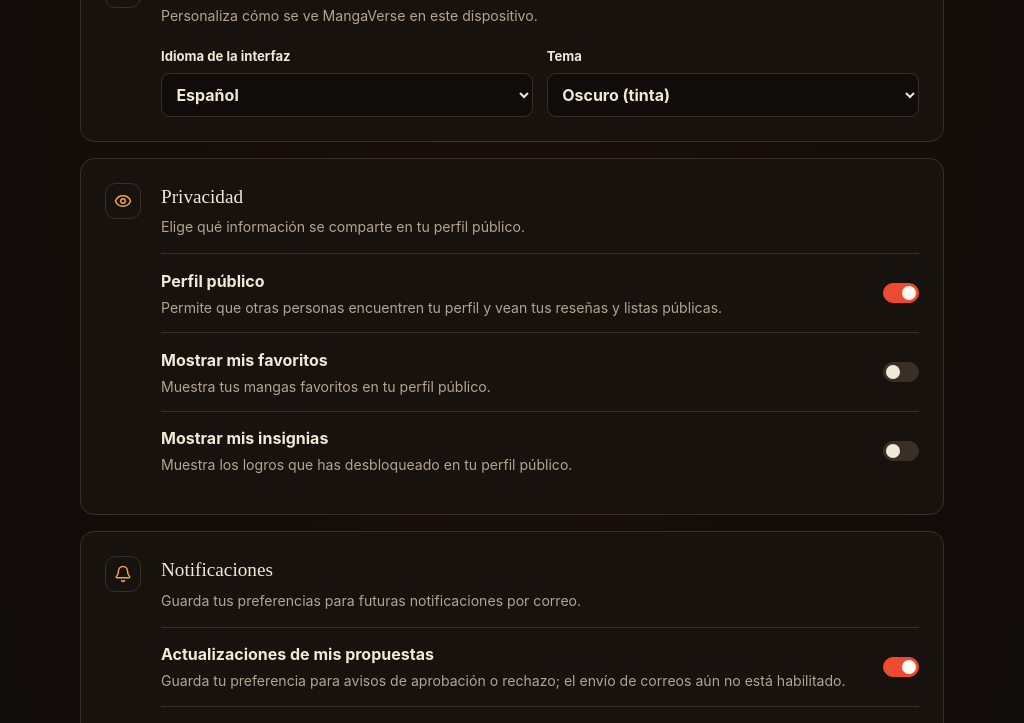
Test: AccountSettingsPage › saves privacy preferences and the selected theme together
(page scrolled)
Click the checkbox labelled "Mostrar mis favoritos" at {"x": 901, "y": 372}, box top-left (883, 362), bottom-right (919, 382)
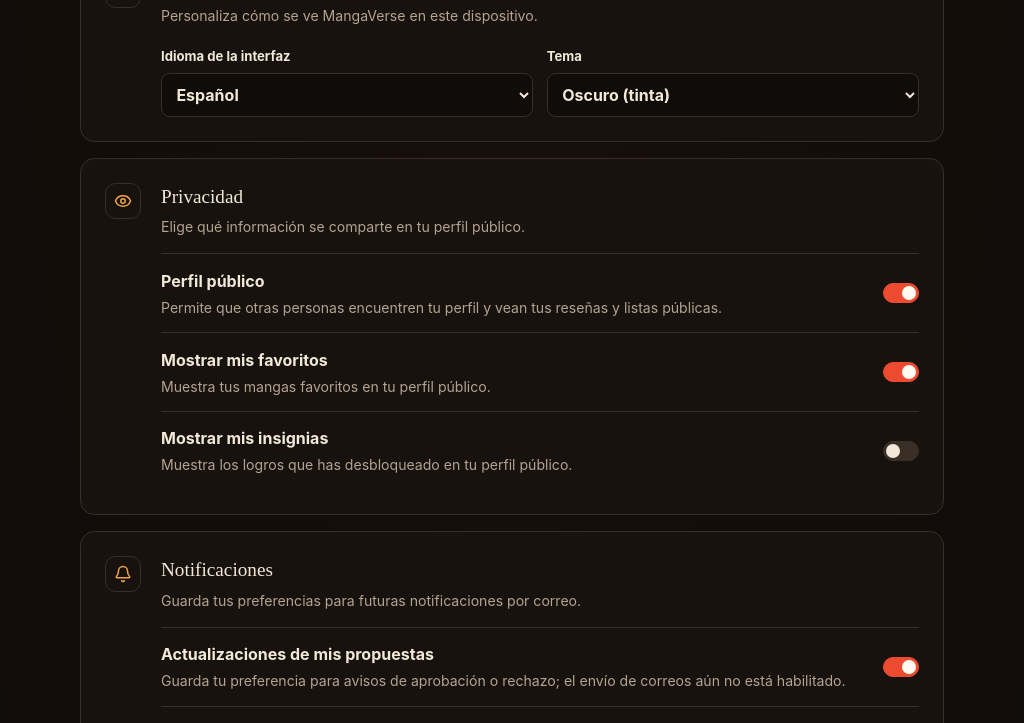
Select "Claro" in the dropdown named "Tema de la interfaz" at {"x": 733, "y": 95}, box top-left (547, 73), bottom-right (919, 117)
(page scrolled)
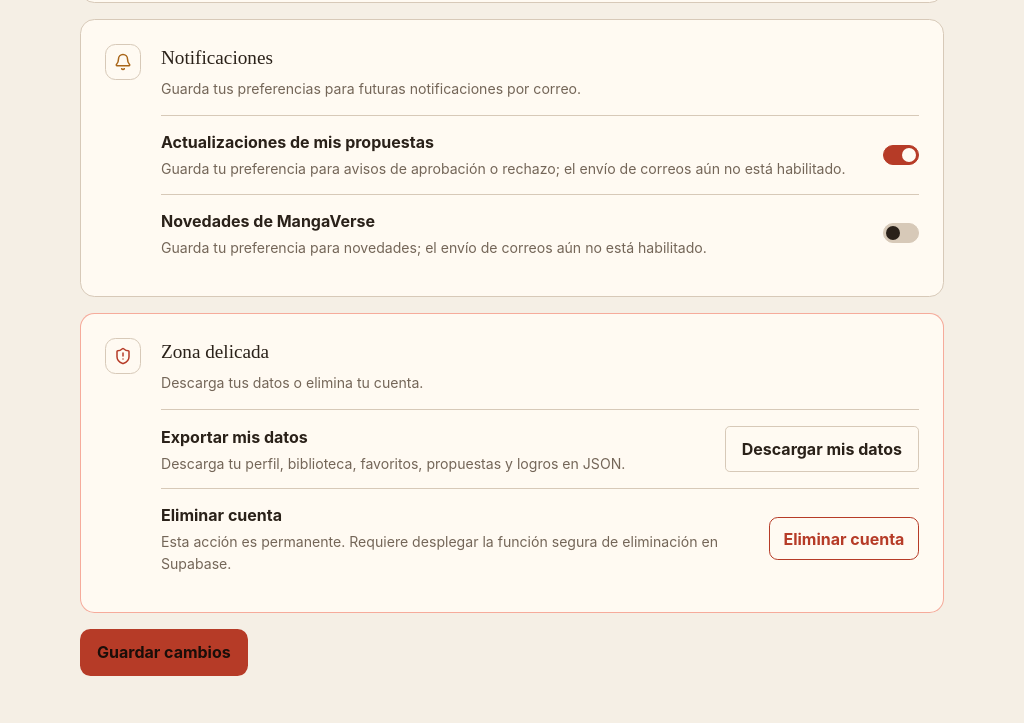
Click the button "Guardar cambios" at {"x": 164, "y": 652}, box top-left (80, 629), bottom-right (248, 676)
(page scrolled)
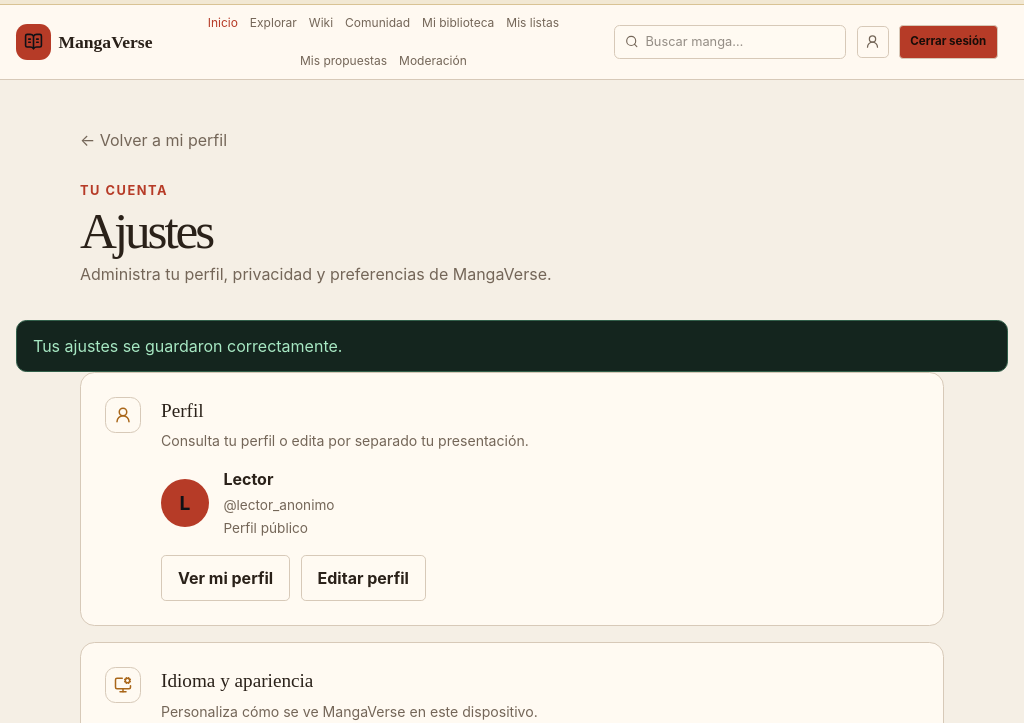
Expected: the message reads "Tus ajustes se guardaron correctamente.", top-left (33, 336), bottom-right (342, 356)
